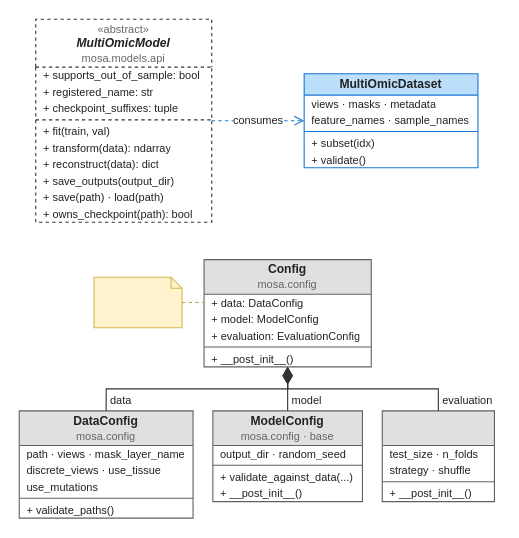
This 519x538 diagram has some shape labels left out. Each missing label, with the box of its shape:
EvaluationConfig mosa.config: (381, 410, 494, 502)
Validated at initialization time: (93, 276, 182, 328)
